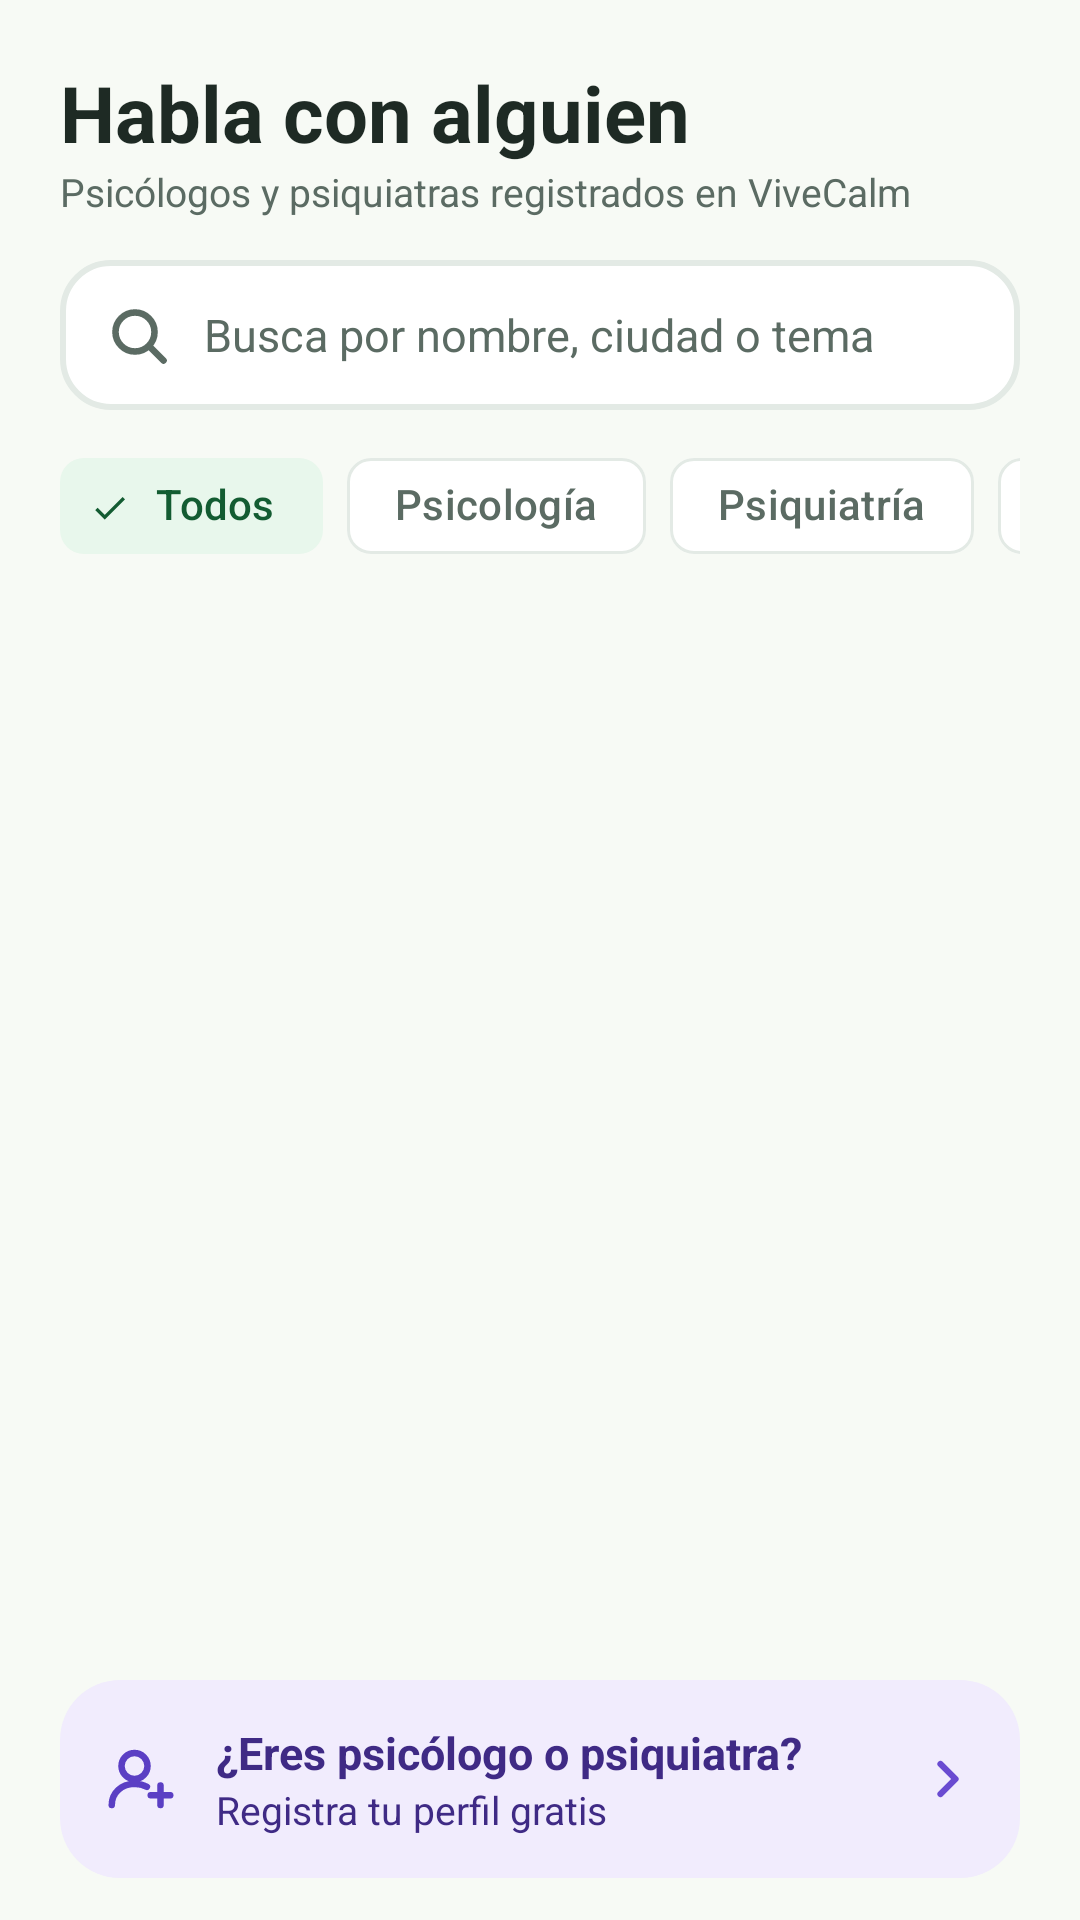

Icons on this 1080×1920 Android screen, each with its box as bbox(x1, y1, x2, y2):
agregar persona: bbox(108, 1749, 174, 1809)
chevron: bbox(937, 1760, 959, 1798)
